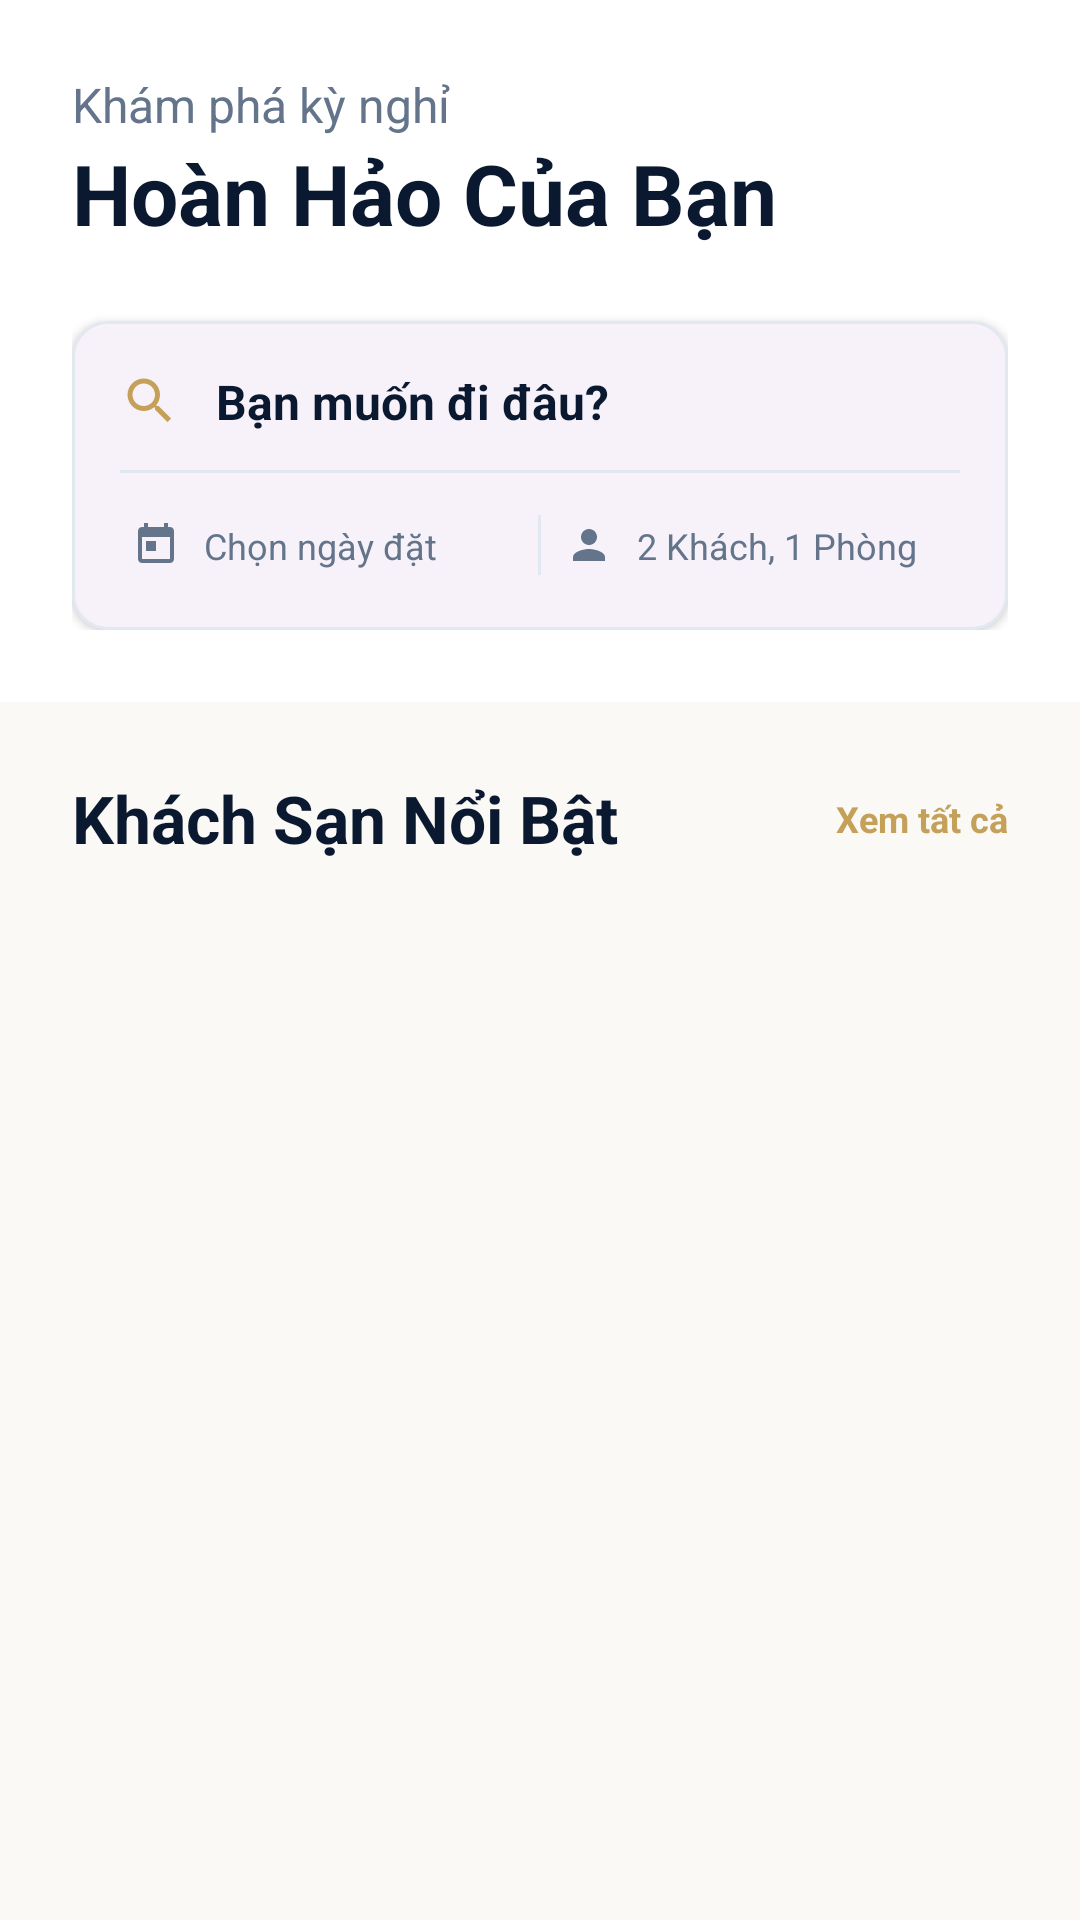

Icons on this 1080px x 1920px Android screen, each with the point to tap as [x,y]:
profile: [589,545]
search: [149,400]
